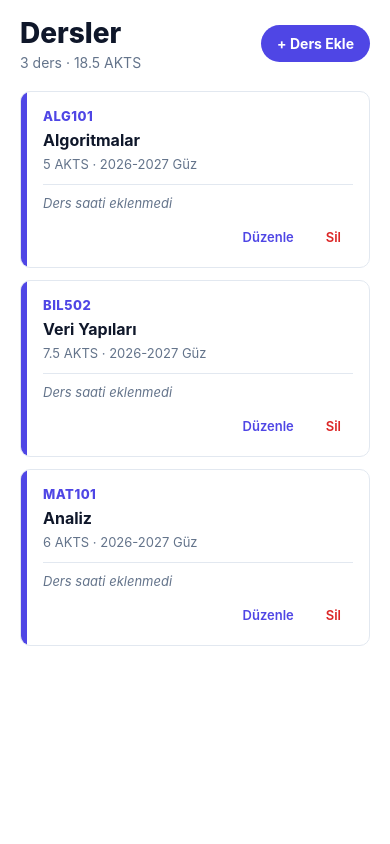
CoursesScreen › Vazgeç formu değişiklik yapmadan kapatır
Click the text "+ Ders Ekle". click: [316, 44]
box: [277,35,354,52]
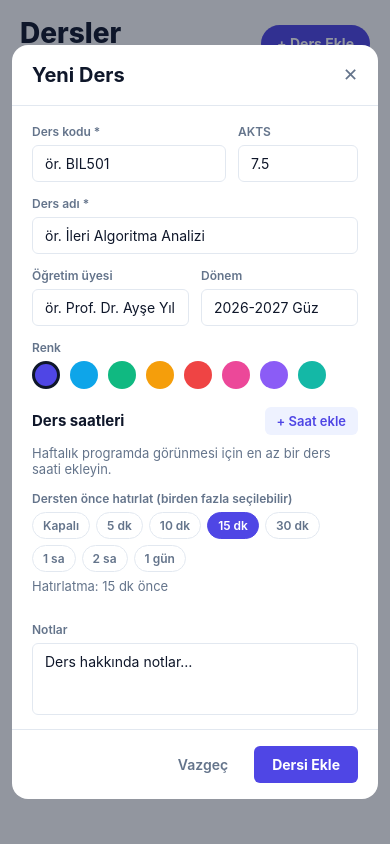
Click the text "Vazgeç". click: [203, 765]
box: [178,756,228,773]
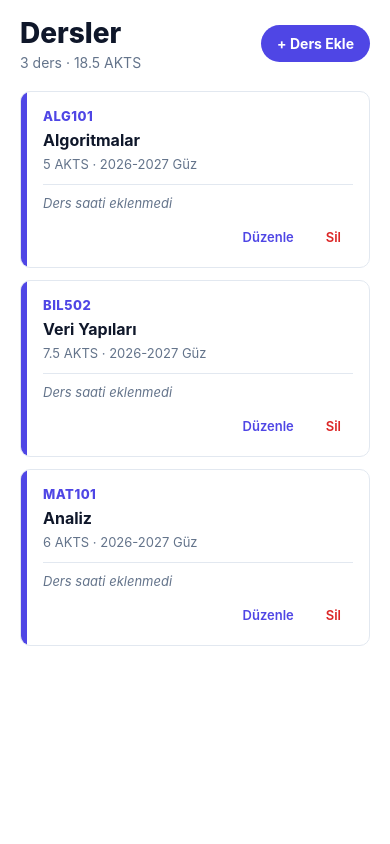
Expected: the text "Yeni Ders" is gone
